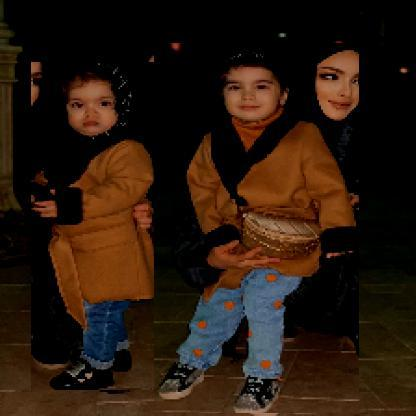child: (155, 44, 361, 415), (32, 63, 159, 392)
